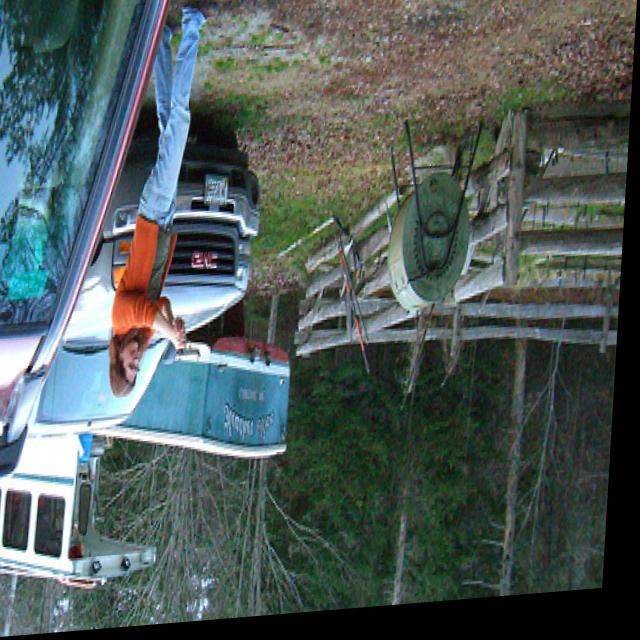handgun: (177, 326, 207, 372)
